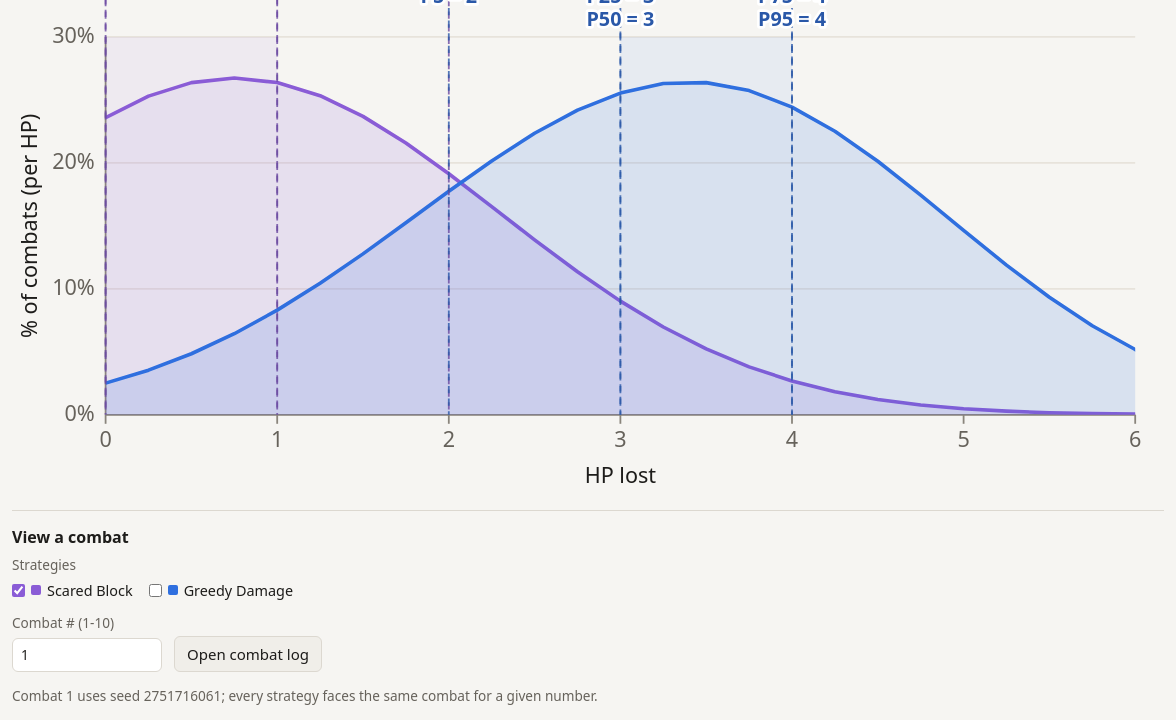
Scenario: view-a-combat picker › checking a second strategy turns "Open combat log" into "Compare" linking both
(page scrolled)
Expected: the link "Open combat log" is shown, [174,636,322,672]
Click the checkbox labelled "Greedy Damage" at (155, 590), box [149,584,162,597]
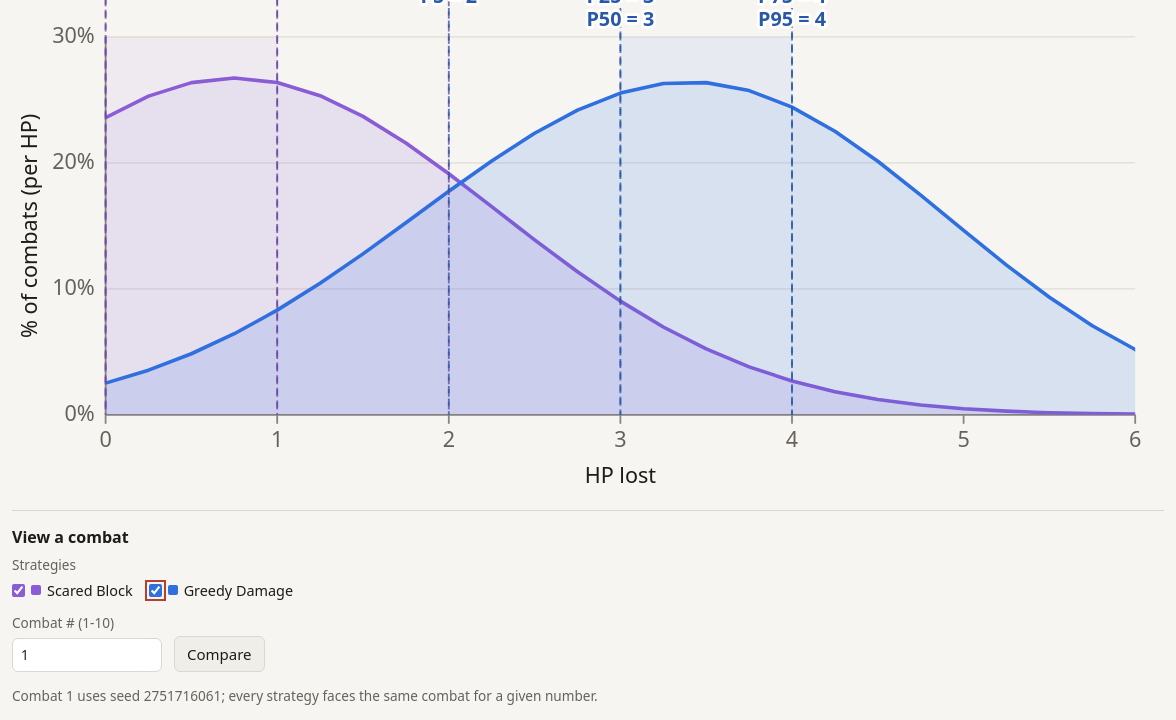
Result: the link "Compare" is shown at [174,636,265,672]
Replace the text in the number field with "5" at (87, 655), box [12,638,162,672]
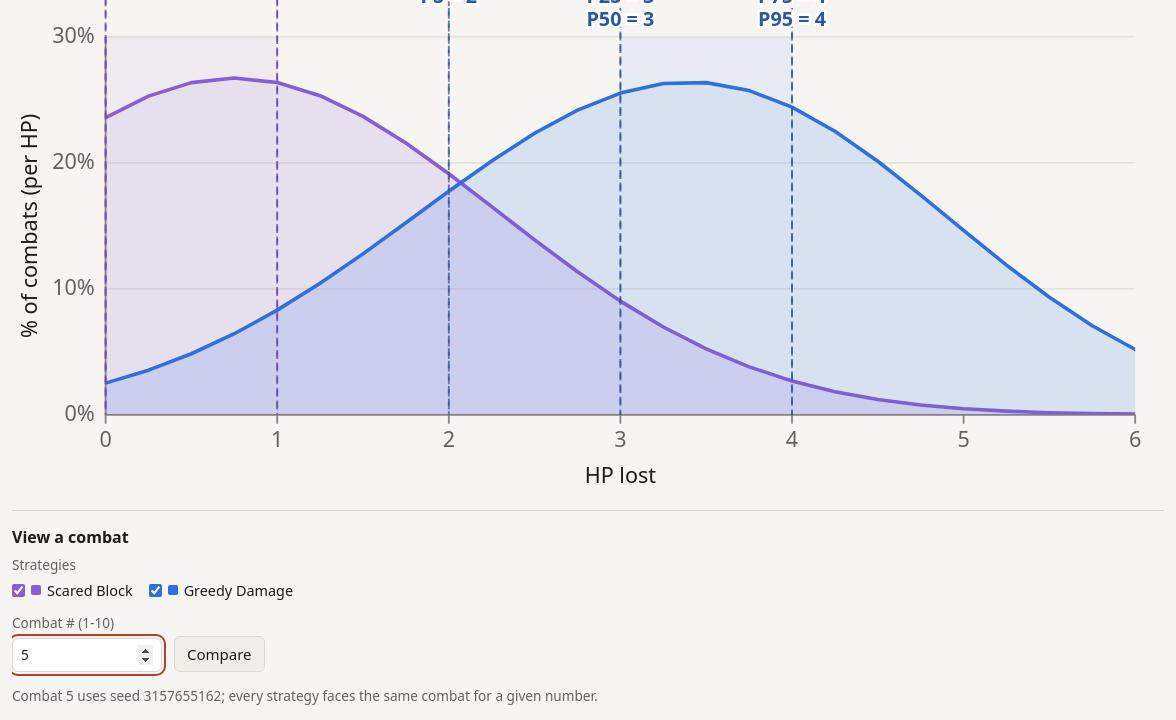
// Unchecking both leaves a disabled button with no link.
Click the checkbox labelled "Greedy Damage" at (155, 590), box [149,584,162,597]
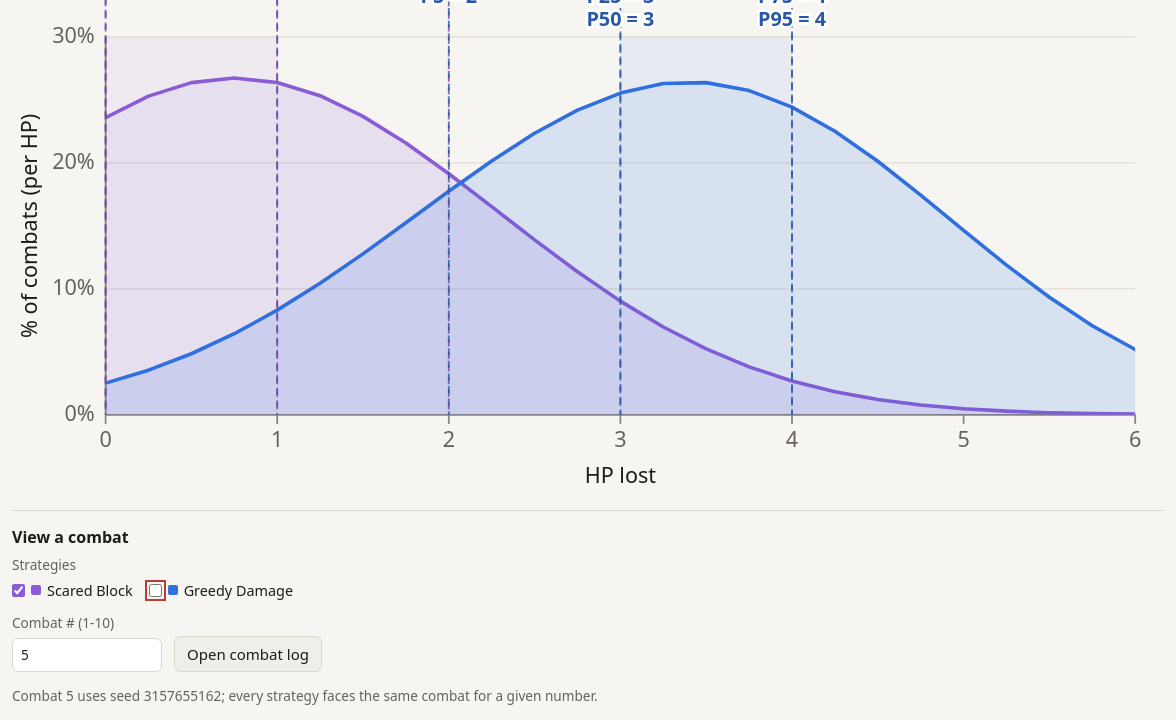
Click the checkbox labelled "Scared Block" at (18, 590), box [12,584,25,597]
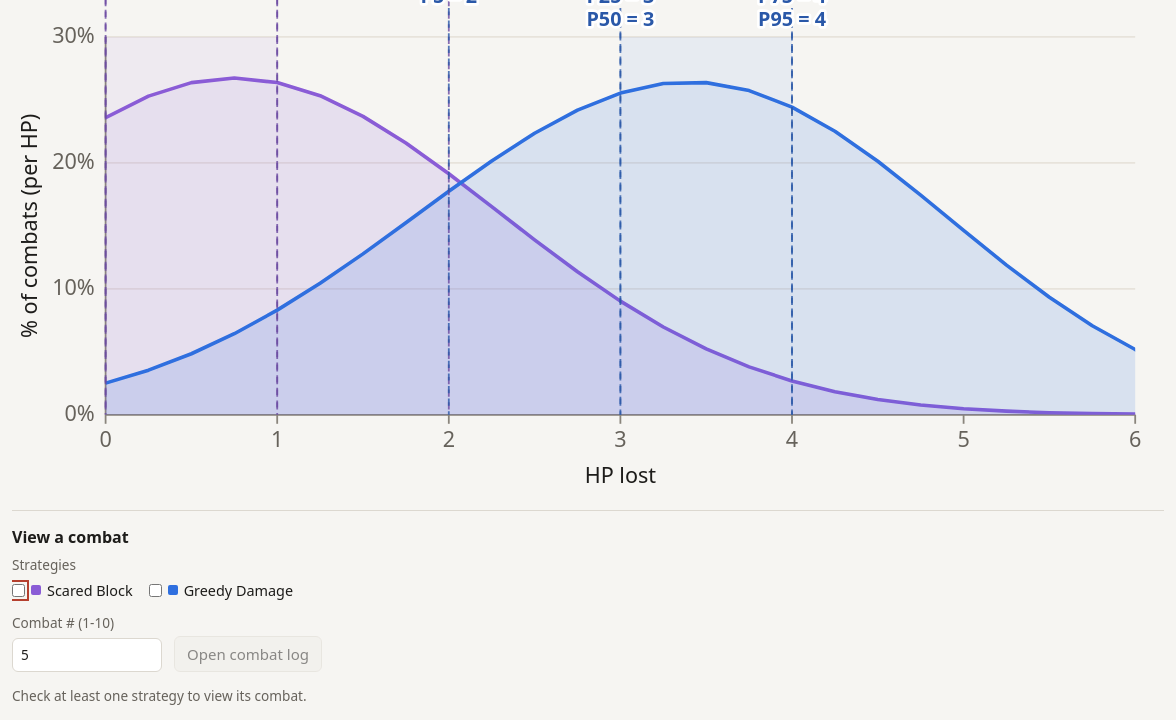
Result: the text "Check at least one strategy to view its combat." is shown at [12,686,307,705]
